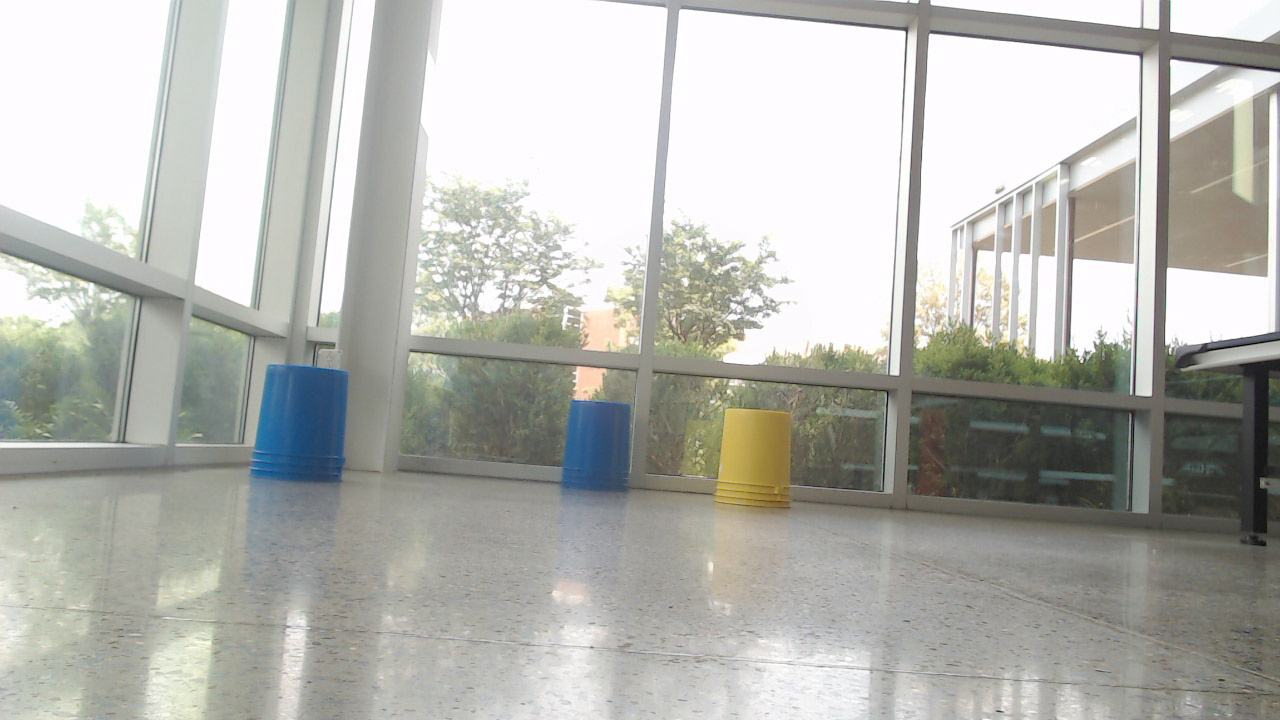blue_bucket: (250, 368, 358, 492), (561, 401, 640, 504)
yellow_bucket: (715, 410, 802, 518)
